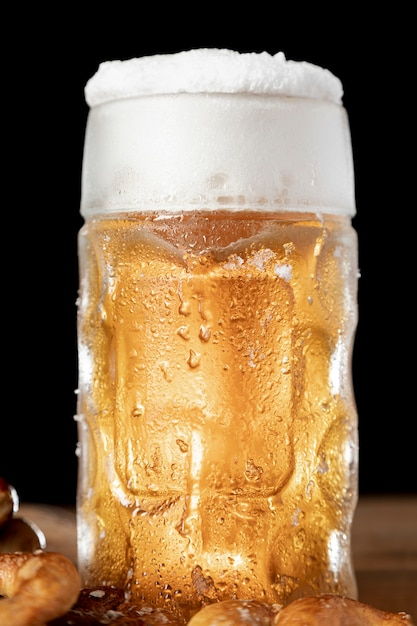alcohol: (68, 52, 366, 611)
